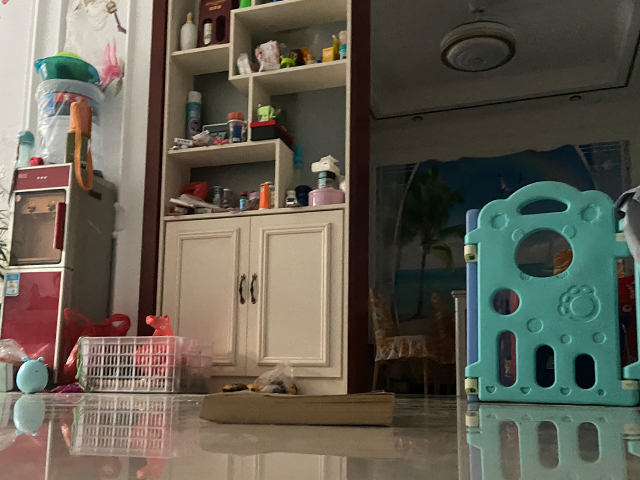book: (197, 389, 397, 429)
cabinet: (156, 206, 346, 398)
stool: (367, 282, 455, 396)
